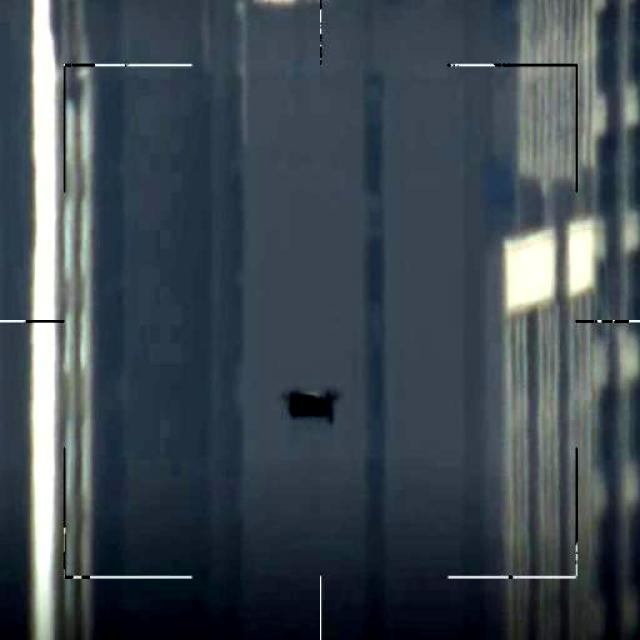bird: (291, 391, 341, 424)
